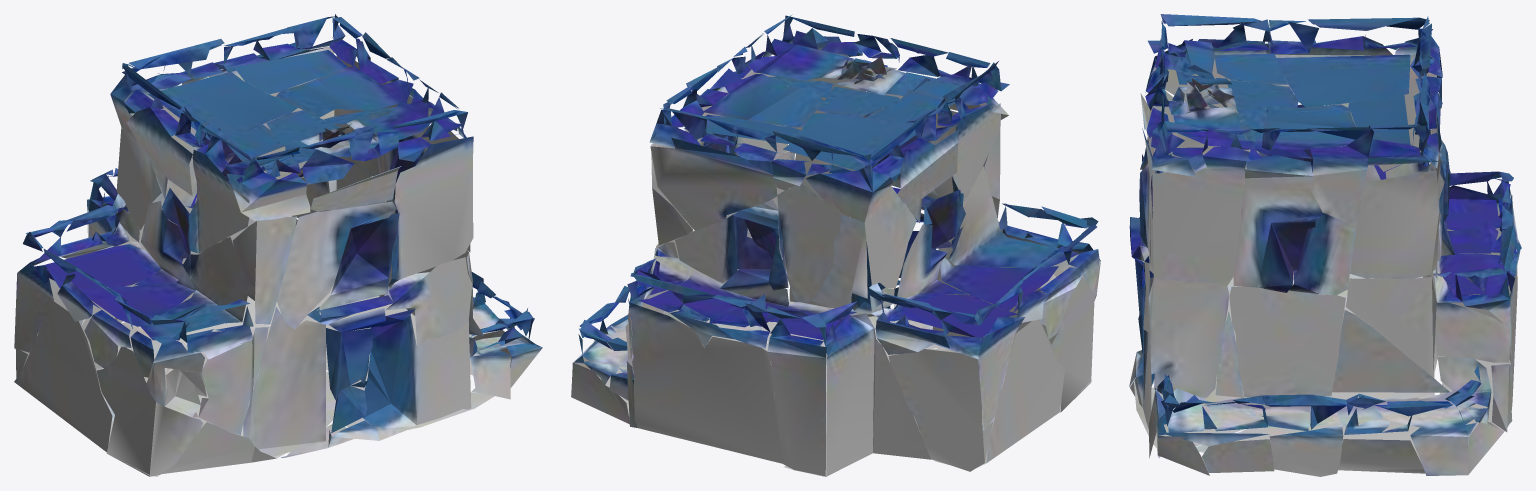
File: loc_sa_bld_whitehouse_c.glb
The picture shows the model from 3 angles, left to right: view 1: azimuth 30°, elevation 25°; view 2: azimuth 150°, elevation 25°; view 3: azimuth 270°, elevation 25°; orthographic projection. The views are drawn at different scales.
Parts seen in each view (by area): view 1: tripo_node_540db7bb-db32-45e5-98fc-96d80eef6972; view 2: tripo_node_540db7bb-db32-45e5-98fc-96d80eef6972; view 3: tripo_node_540db7bb-db32-45e5-98fc-96d80eef6972.
Part boxes in pixels (left/top/right/bottom): tripo_node_540db7bb-db32-45e5-98fc-96d80eef6972: left=14, top=14, right=542, bottom=476; tripo_node_540db7bb-db32-45e5-98fc-96d80eef6972: left=571, top=14, right=1100, bottom=476; tripo_node_540db7bb-db32-45e5-98fc-96d80eef6972: left=1129, top=14, right=1521, bottom=476.
Size of the model in its own units: 3.02 by 2.25 by 2.44.
1 material, 1 textured.
